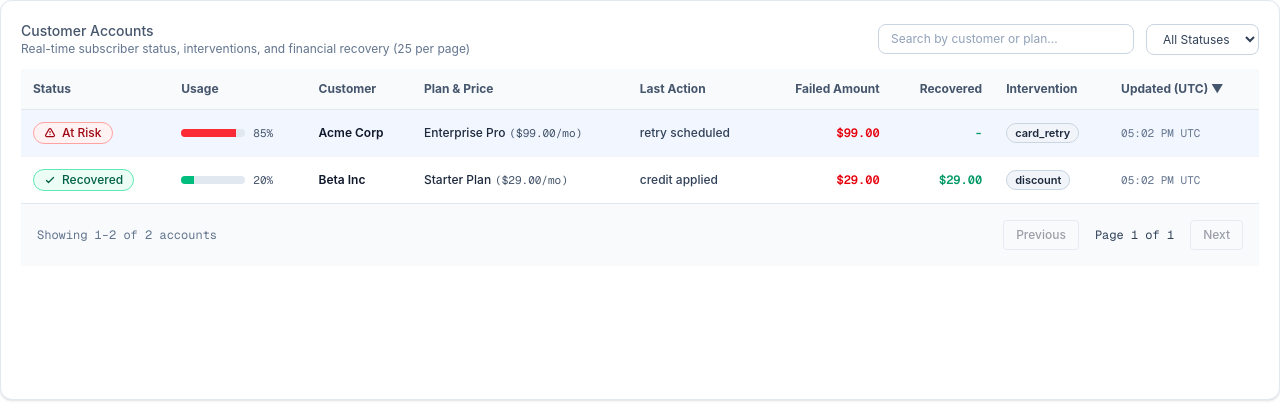
Test: Checkpoint D — Dashboard Panels Component Tests › CustomersTable › filters rows by status dropdown
Select "Recovered" in the dropdown: (1202, 39) left=1146, top=24, right=1259, bottom=54
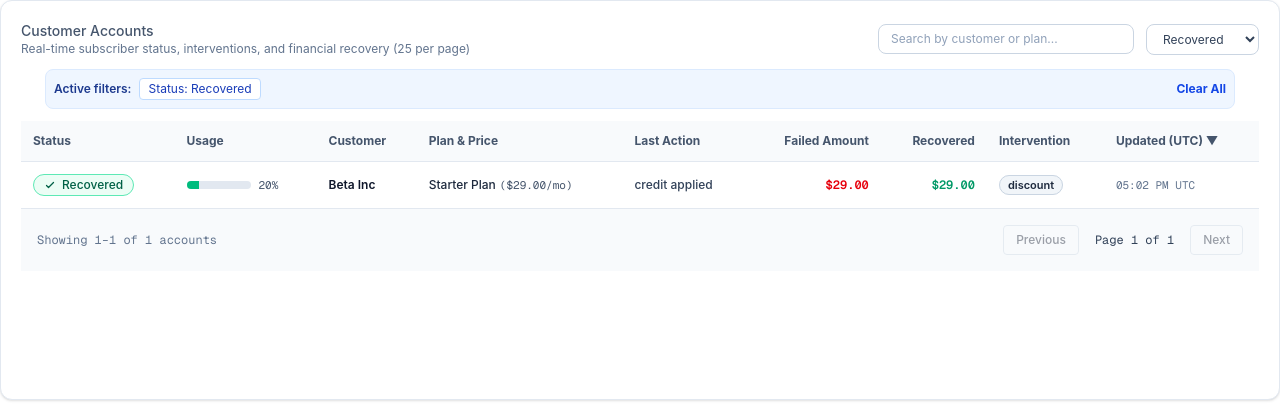
Expected: the text "Beta Inc" is shown, left=316, top=162, right=417, bottom=208
Expected: the text "Acme Corp" is gone
